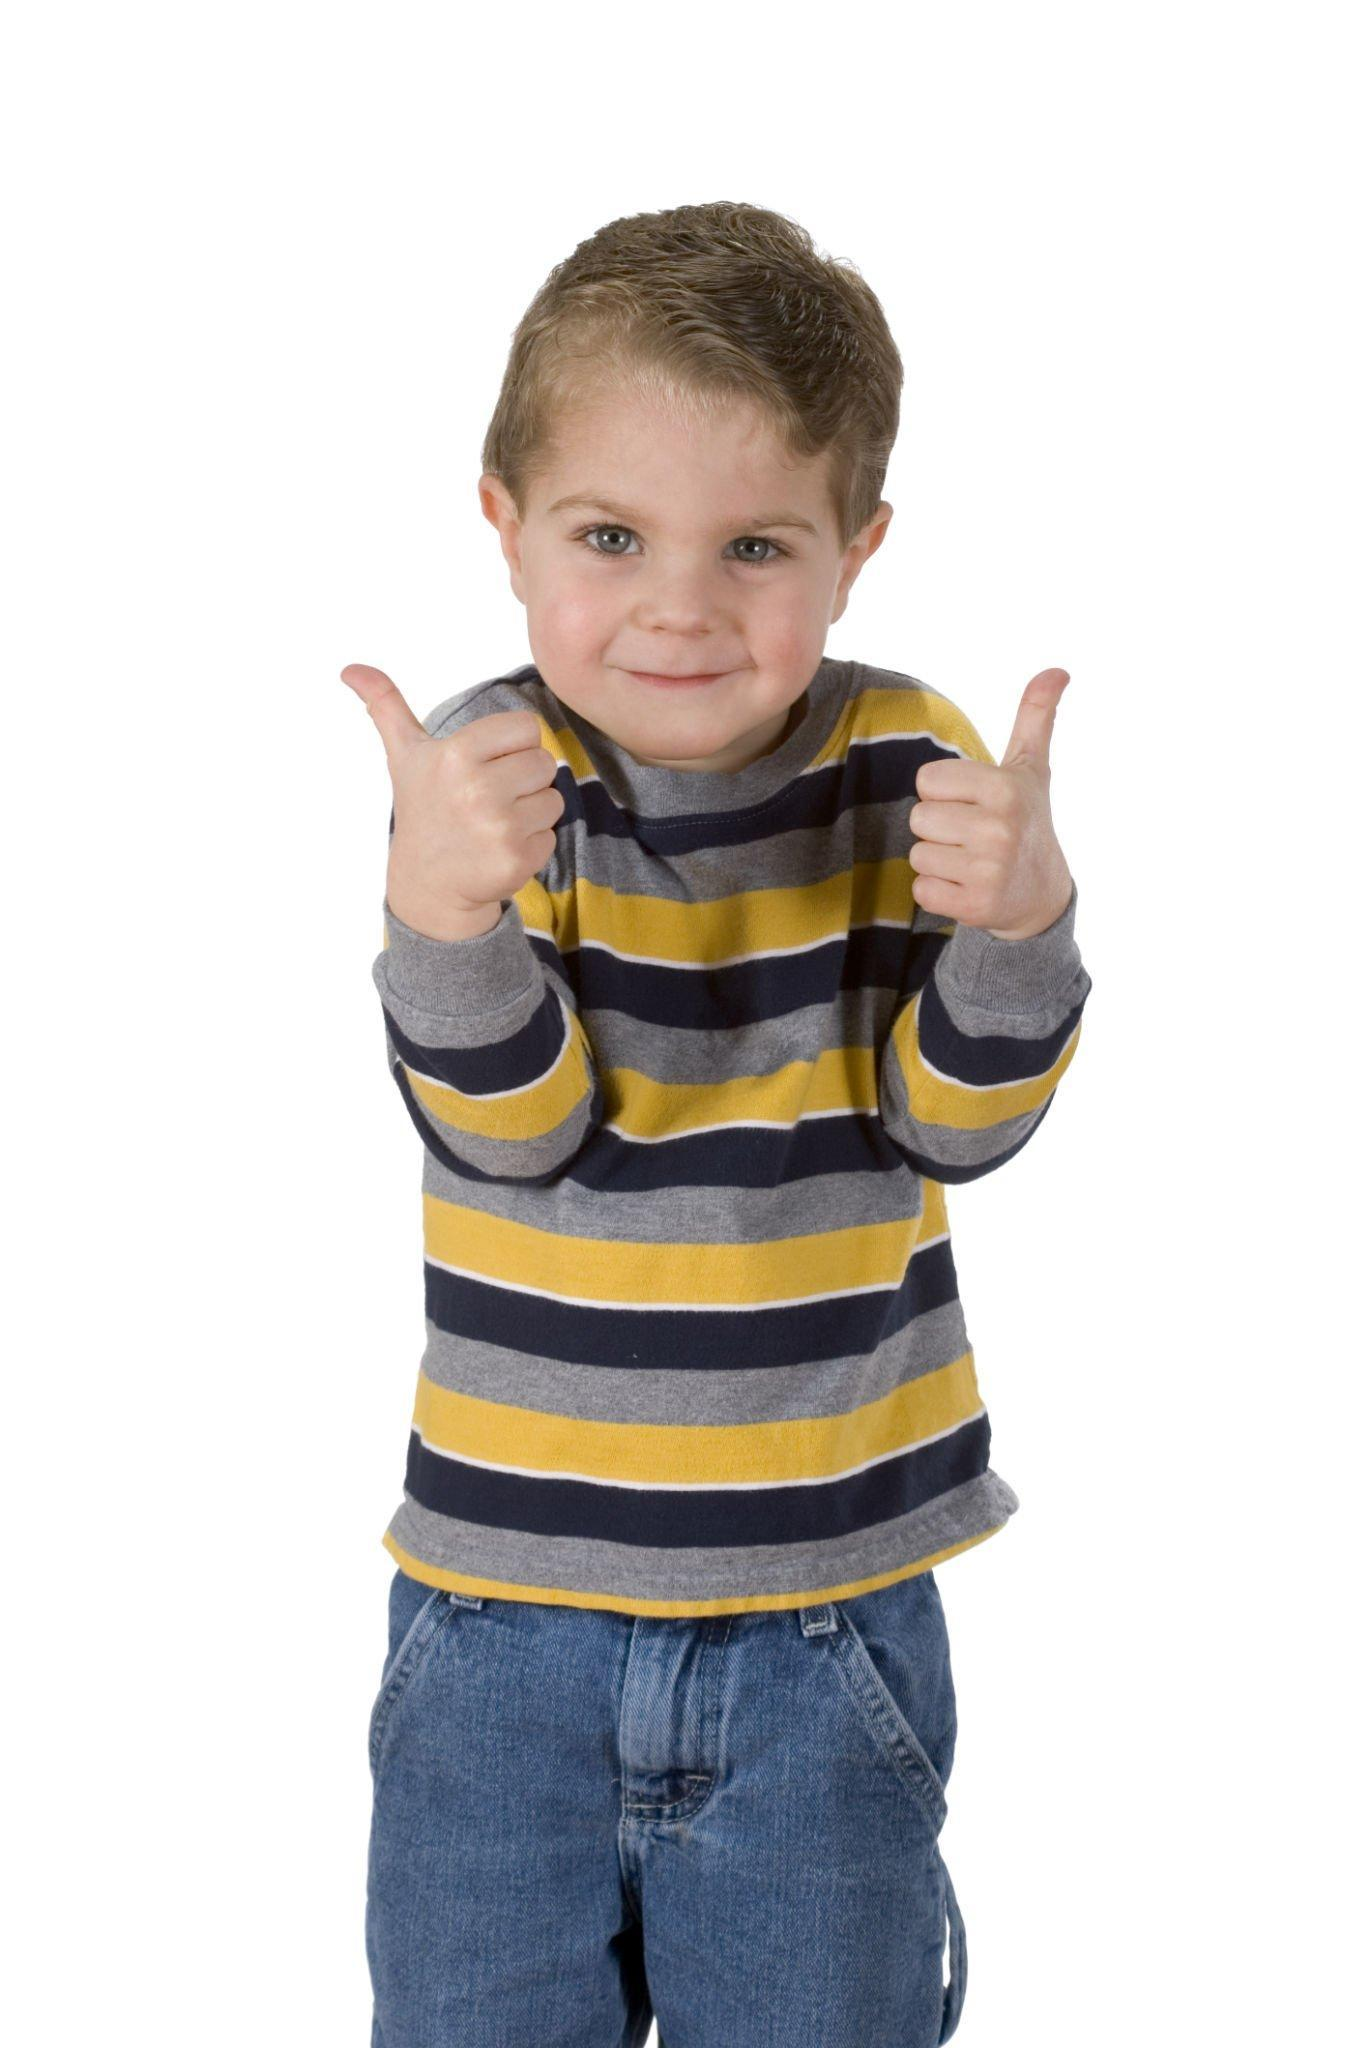Healthy: (462, 283, 887, 789)
